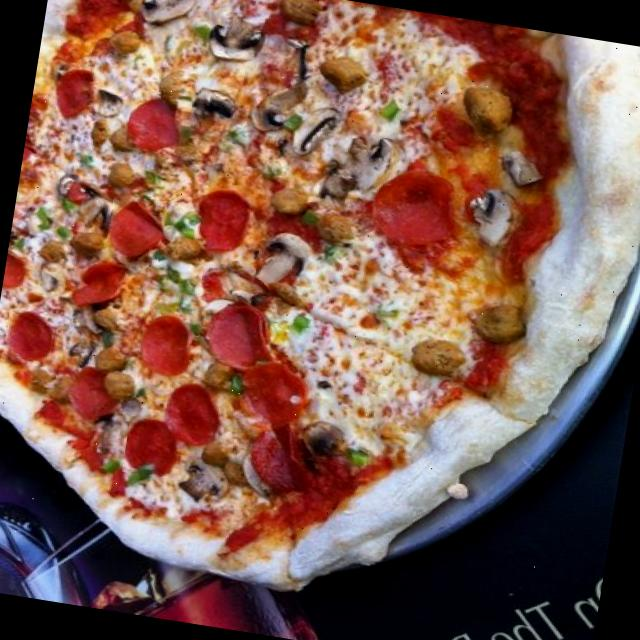mushrooms: (318, 124, 397, 212), (246, 222, 318, 296), (244, 72, 314, 138), (459, 182, 520, 254), (204, 7, 271, 66), (288, 100, 346, 164), (172, 452, 234, 508), (493, 146, 547, 194), (186, 83, 238, 130), (135, 0, 198, 32), (84, 82, 127, 122)
pepperoni: (363, 164, 458, 255), (242, 416, 322, 500), (196, 298, 279, 374), (232, 352, 314, 428), (134, 308, 197, 380), (104, 194, 166, 264), (191, 188, 255, 255), (124, 90, 188, 157), (162, 382, 226, 448), (122, 416, 184, 480), (61, 255, 128, 313), (64, 364, 126, 426), (2, 308, 57, 363), (46, 64, 96, 123), (1, 248, 29, 293)
pizza: (0, 0, 640, 589)
